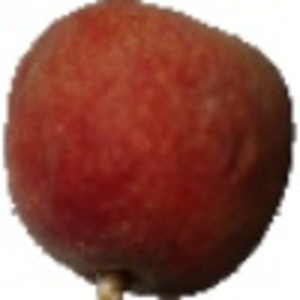pêssego: (3, 1, 297, 300)
